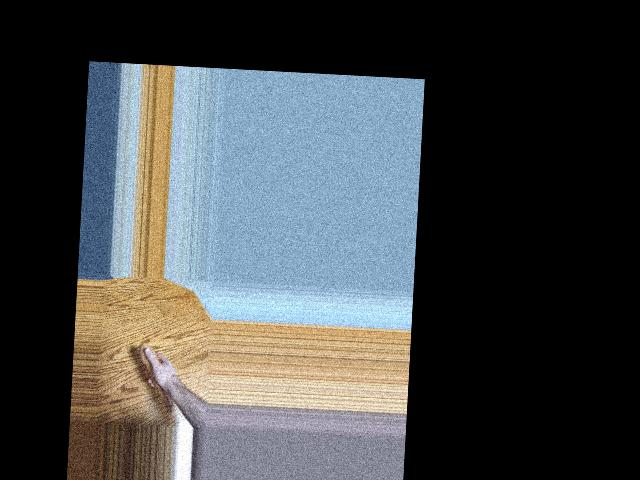sweet_potato: (137, 345, 179, 414)
